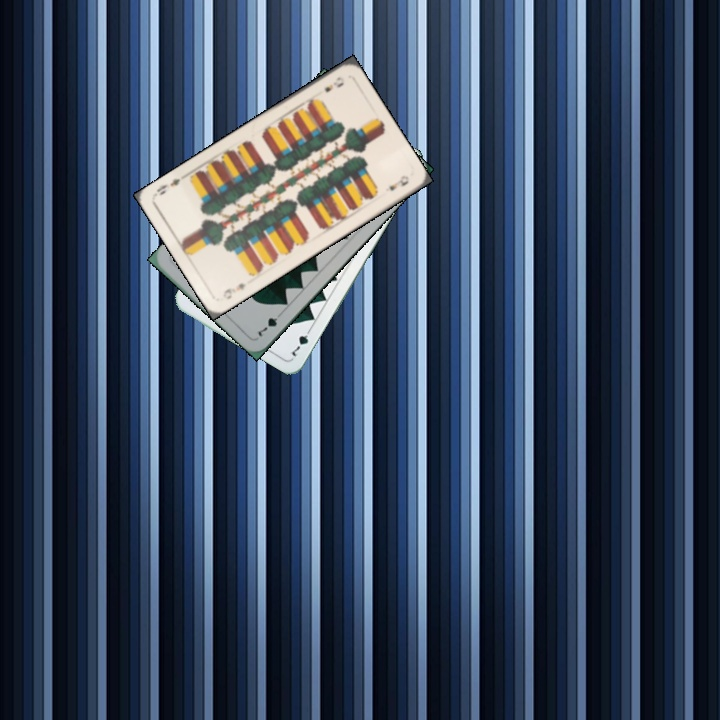E9: (219, 279, 249, 302), (320, 73, 347, 95)
G7: (285, 323, 314, 359), (254, 307, 285, 340)
